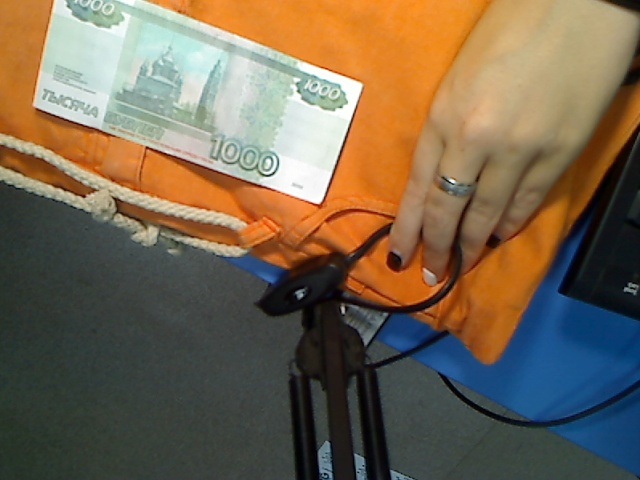banknotes: (29, 2, 365, 207)
